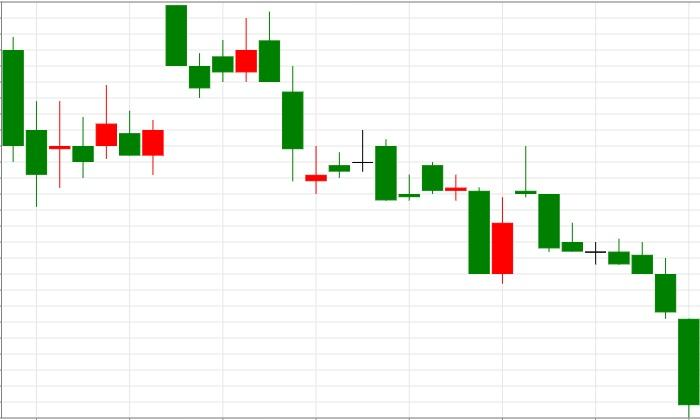bearish_engulfing_fall: (142, 5, 281, 175)
